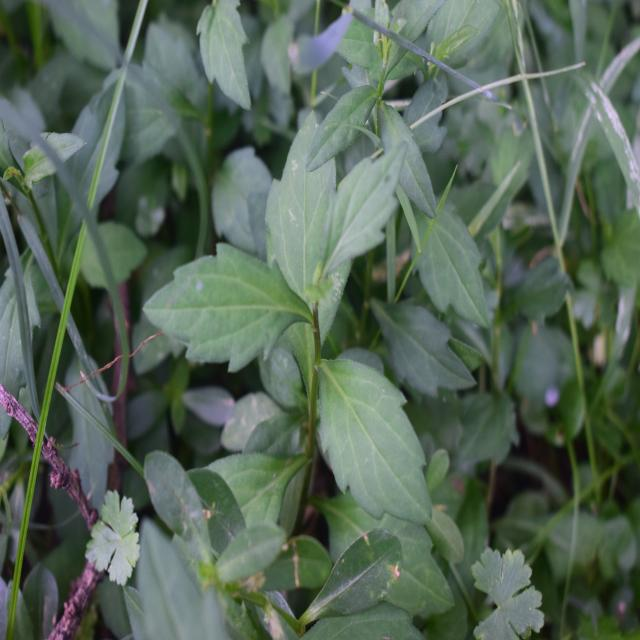Indian aster: (167, 130, 443, 544)
